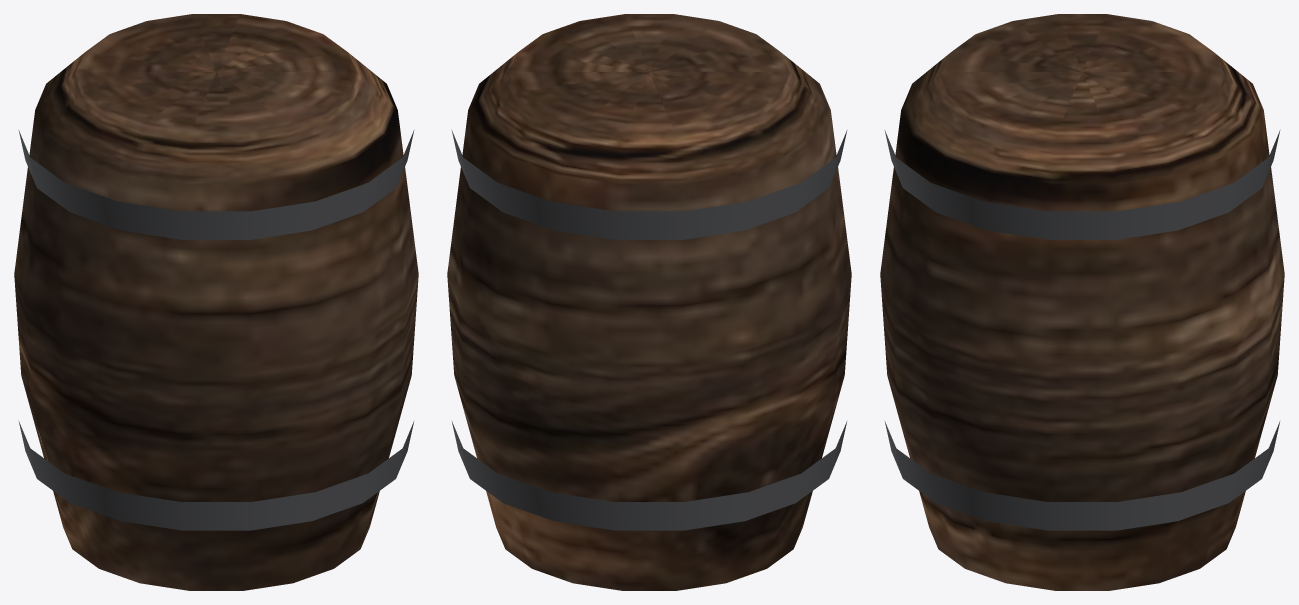
Rendered from barrel.glb.
The picture shows the model from 3 angles, left to right: view 1: azimuth 30°, elevation 25°; view 2: azimuth 150°, elevation 25°; view 3: azimuth 270°, elevation 25°; orthographic projection.
Parts seen in each view (by area): view 1: part_0, part_1; view 2: part_0, part_1; view 3: part_0, part_1.
Boxes of the visible parts, left/top/right/bottom form: part_0: left=14, top=14, right=418, bottom=590; part_1: left=18, top=130, right=414, bottom=530; part_0: left=447, top=14, right=851, bottom=590; part_1: left=451, top=130, right=847, bottom=530; part_0: left=880, top=14, right=1284, bottom=590; part_1: left=884, top=130, right=1280, bottom=530.
Size of the model in its own units: 0.2856 by 0.36 by 0.29.
2 materials, 1 textured.
